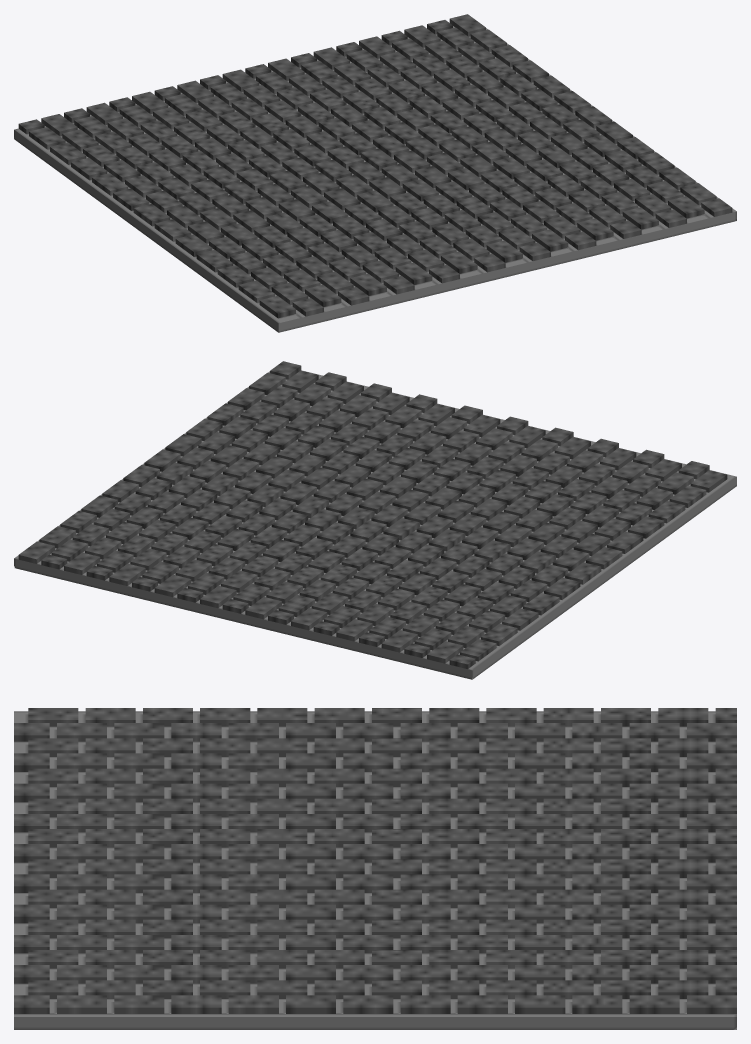
The model's file is Piso nivel 2.obj.
The picture shows the model from 3 angles, top to bottom: view 1: azimuth 30°, elevation 25°; view 2: azimuth 150°, elevation 25°; view 3: azimuth 270°, elevation 25°; orthographic projection. The views are drawn at different scales.
Visible parts, largest first — view 1: Model; view 2: Model; view 3: Model.
Part boxes in pixels (x1,y1,x2,y2): Model: (14, 14, 736, 332); Model: (14, 361, 736, 679); Model: (14, 708, 736, 1029).
Size of the model in its own units: 32 by 0.9505 by 32.
Materials: 1 (1 with a texture image).
